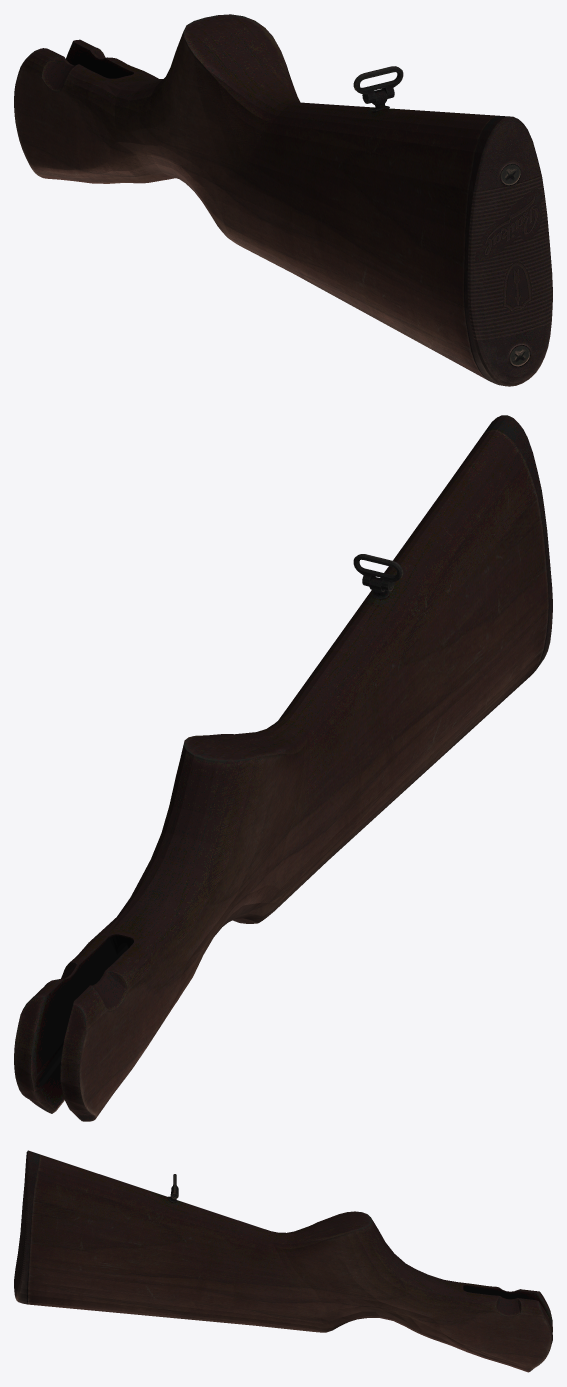
3 renders of one model, top to bottom at view 1: azimuth 30°, elevation 25°; view 2: azimuth 150°, elevation 25°; view 3: azimuth 270°, elevation 25°, orthographic. The views are drawn at different scales.
Visible parts, largest first — view 1: TW_61f7b234ea4ab34f2f59c3ec_PZ_Import; view 2: TW_61f7b234ea4ab34f2f59c3ec_PZ_Import; view 3: TW_61f7b234ea4ab34f2f59c3ec_PZ_Import.
Boxes of the visible parts, box(x1,y1,x2,y2) form: TW_61f7b234ea4ab34f2f59c3ec_PZ_Import: box(14, 14, 552, 386); TW_61f7b234ea4ab34f2f59c3ec_PZ_Import: box(14, 415, 552, 1121); TW_61f7b234ea4ab34f2f59c3ec_PZ_Import: box(14, 1150, 552, 1372).
Bounding box in the file's own units: 0.0227 × 0.221 × 0.0976.
Materials: 1 (1 with a texture image).
